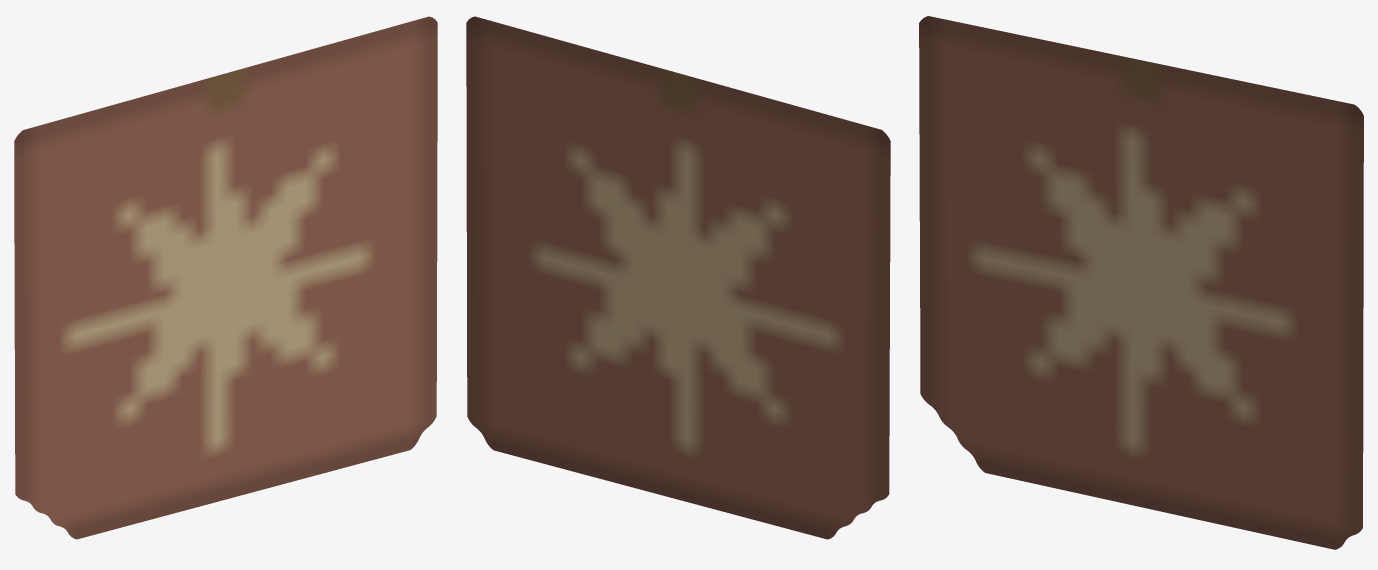
Rendered from SM_Poster_Star.fbx.
The picture shows the model from 3 angles, left to right: view 1: azimuth 30°, elevation 25°; view 2: azimuth 150°, elevation 25°; view 3: azimuth 330°, elevation 25°; orthographic projection. The views are drawn at different scales.
Parts seen in each view (by area): view 1: Poster_Star_Visual; view 2: Poster_Star_Visual; view 3: Poster_Star_Visual.
Part boxes in pixels (bbox=[...]): Poster_Star_Visual: bbox=[14, 16, 437, 539]; Poster_Star_Visual: bbox=[466, 16, 890, 539]; Poster_Star_Visual: bbox=[919, 16, 1363, 549].
Bounding box in the file's own units: 0.124 × 0.1226 × 0.000179.
